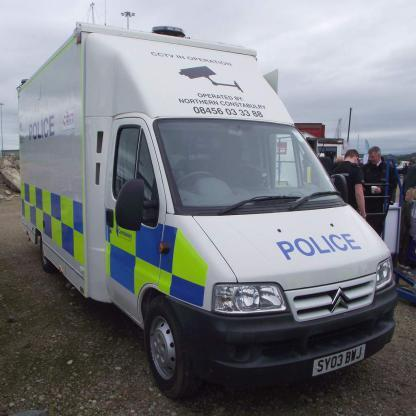Ambulance - v1 Ambulance last generate: (9, 15, 396, 400)
